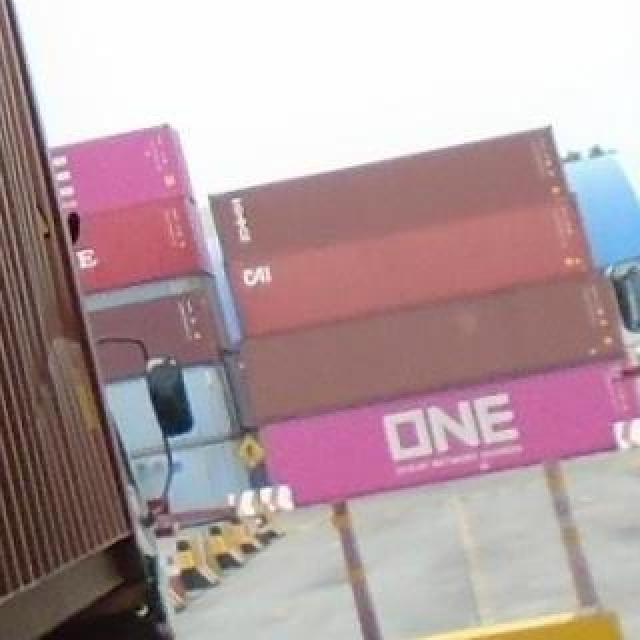dent: (25, 293, 99, 435)
